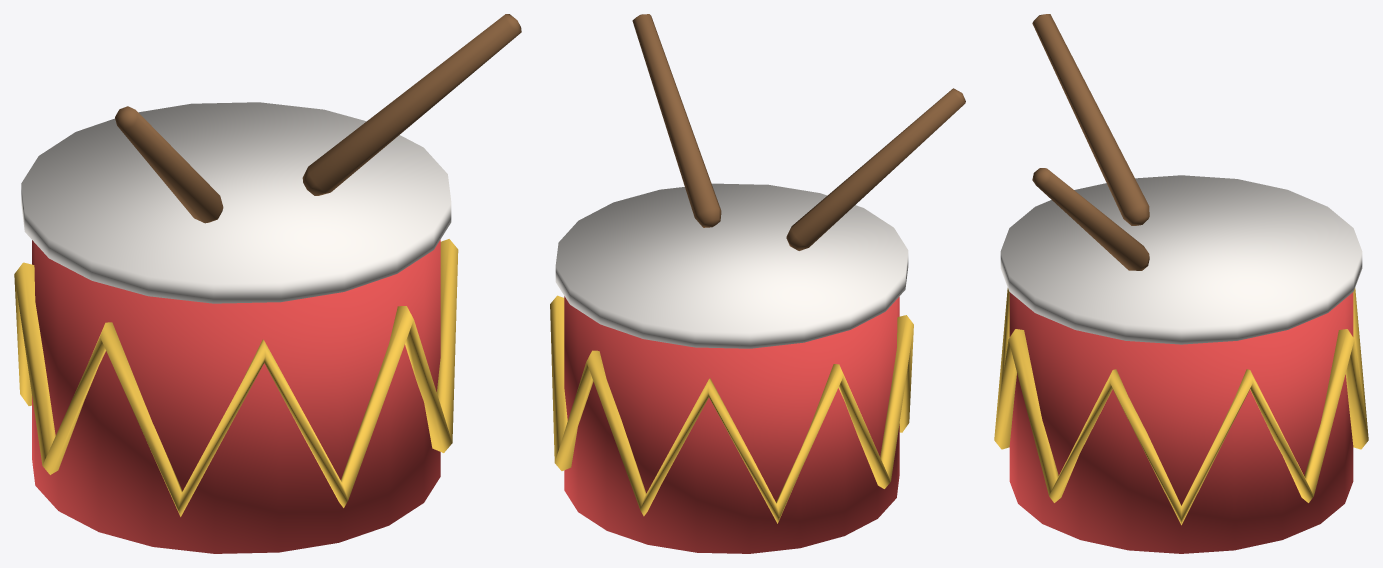
Rendered from festival-part-drum.glb.
3 renders of one model, left to right at view 1: azimuth 30°, elevation 25°; view 2: azimuth 150°, elevation 25°; view 3: azimuth 270°, elevation 25°, orthographic. The views are drawn at different scales.
Visible parts, largest first — view 1: part; view 2: part; view 3: part.
Boxes of the visible parts, x1,y1,x2,y2 form: part: [14, 14, 521, 553]; part: [550, 14, 965, 553]; part: [994, 14, 1368, 553].
Bounding box in the file's own units: 0.4313 × 0.4759 × 0.414.
